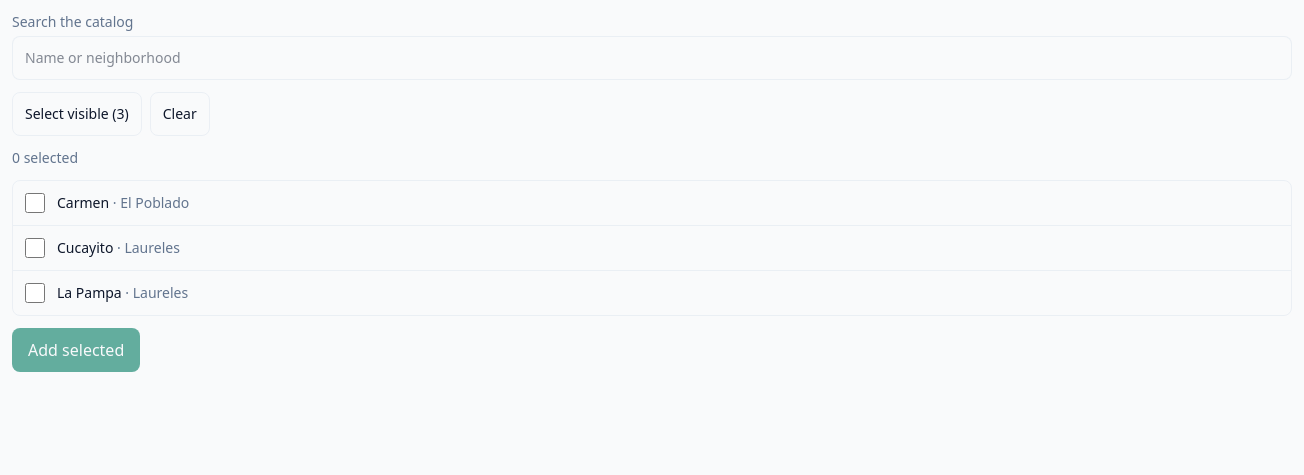
RestaurantPicker › reports a partial success in amber and names the failure
What coordinates should you click on to do the following:
click the checkbox with test id "contest-picker-option" showing "Carmen · El Poblado"
I would click on:
 (35, 203)
Its box is [25, 193, 45, 213].
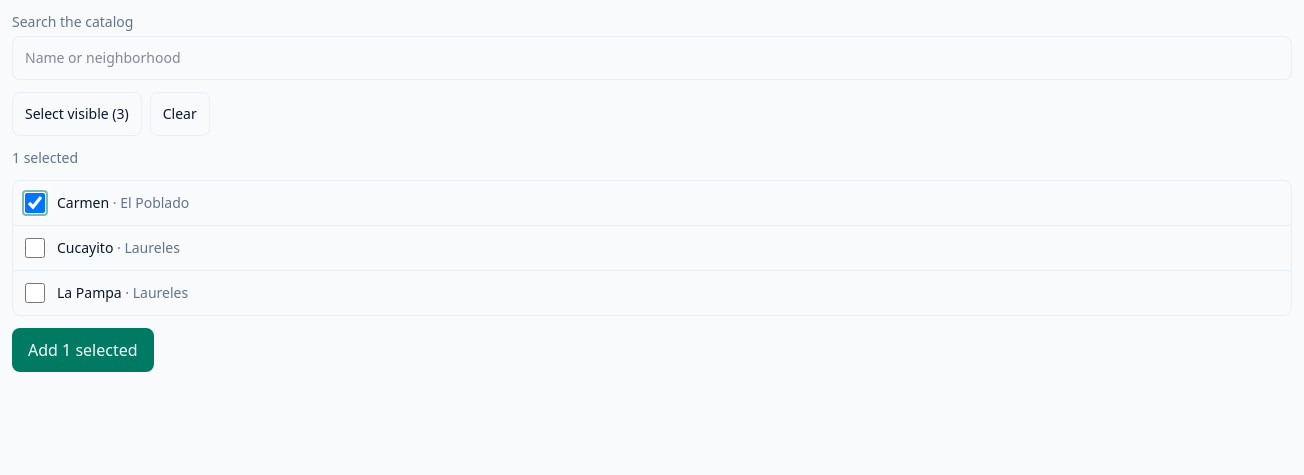
What coordinates should you click on to do the following:
click the button with test id "contest-link-submit"
I would click on:
 (83, 350)
Its box is [12, 328, 154, 372].
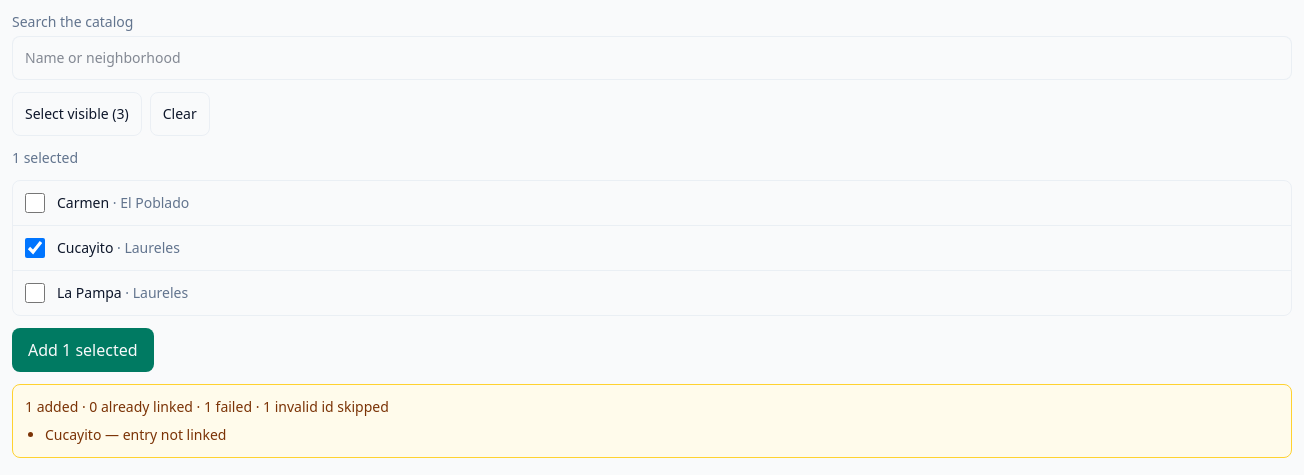
Expected: the text with test id "contest-link-result-summary" shows "1 added", [25, 397, 389, 416]
Expected: the text with test id "contest-link-result-summary" shows "1 failed", [193, 397, 252, 416]
Expected: the text with test id "contest-link-result-summary" shows "1 invalid id skipped", [252, 397, 389, 416]
